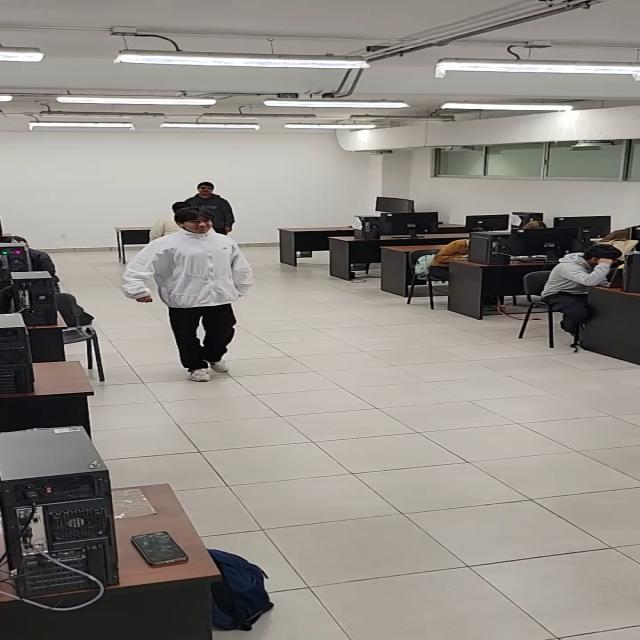Persona: (134, 209, 252, 382), (184, 179, 238, 245)
